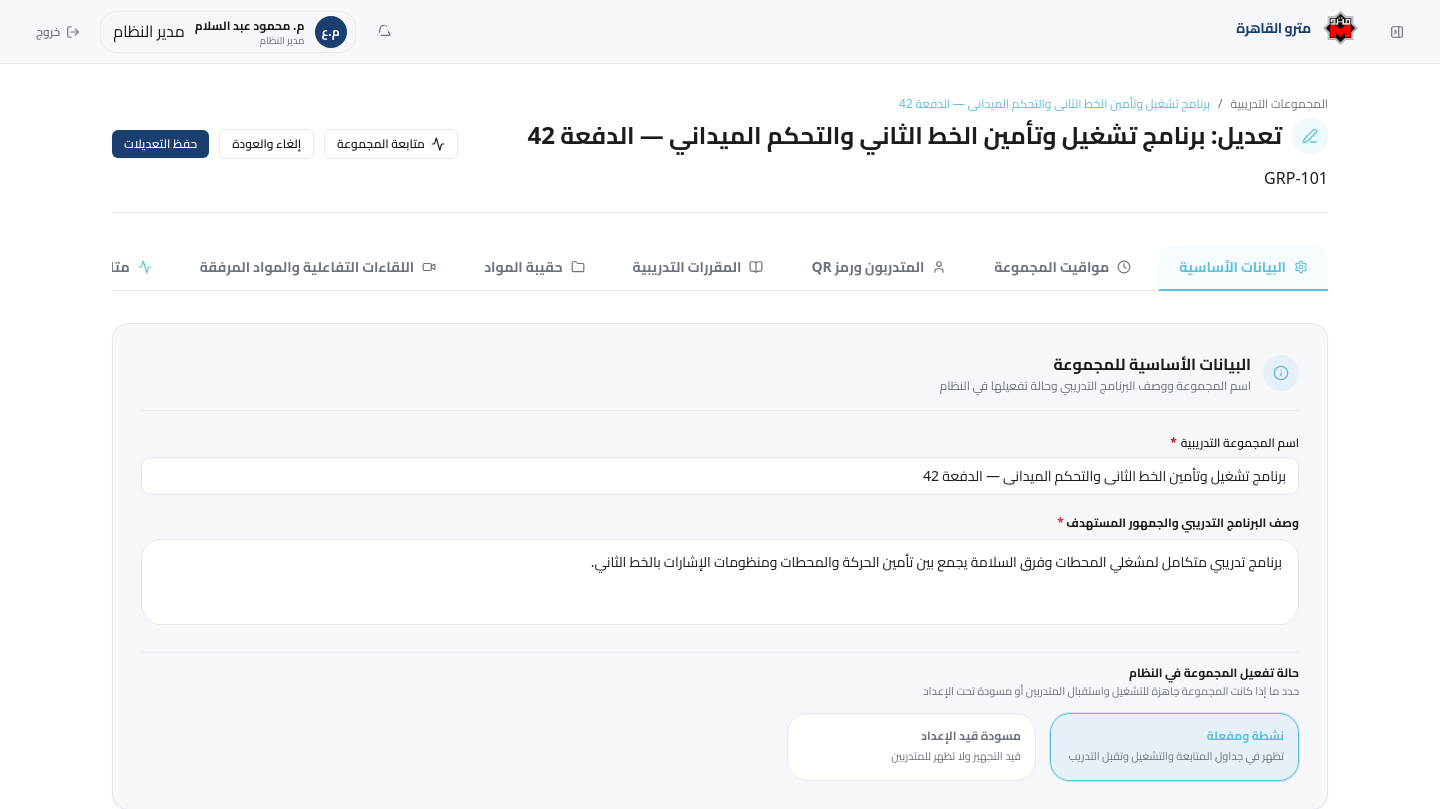
Test: Increment 10 — Phase 8: Group Monitoring Dashboard & Historical Cycle Reporting › 1. Dashboard Entry Points and Authorization › navigates to monitoring dashboard from Group Editor header button
This screenshot has width=1440, height=809.
What coordinates should you click on to do the following:
click the button with test id "go-to-monitoring-btn"
I would click on:
 (391, 144)
Its box is left=324, top=129, right=458, bottom=159.
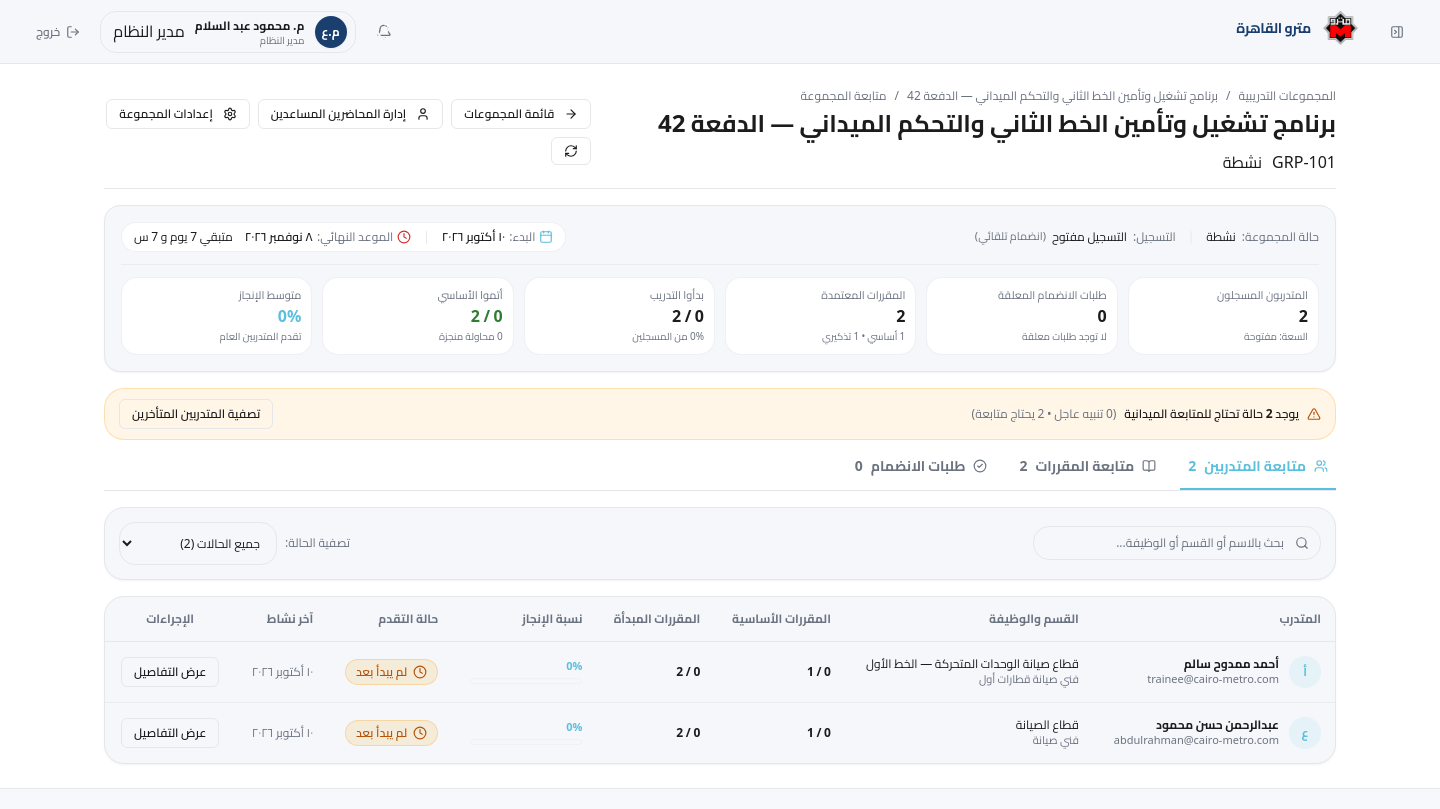
Expected: the heading shows "برنامج تشغيل وتأمين الخط الثاني", left=658, top=101, right=1336, bottom=146
Now the element with test id "cohort-metric-total-members" is shown, box left=1128, top=277, right=1319, bottom=355
